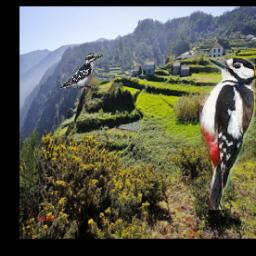Woodpecker: (199, 59, 255, 211), (60, 54, 103, 89)
